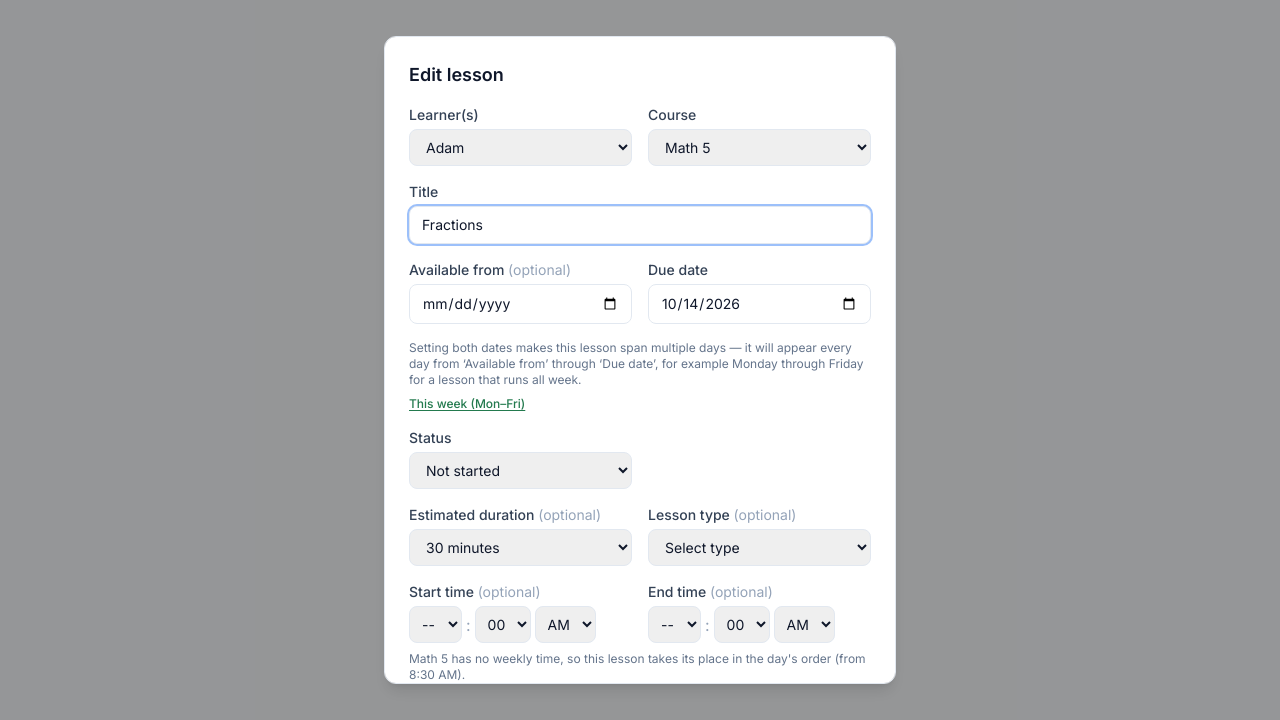
it: EditLessonModal — why this time › explains a course with no weekly time, and hides the note once the lesson has its own time
Expected: the field labelled "Title" is shown, [409,206,871,244]
Expected: the text "Math 5 has no weekly time" is shown, [409,651,866,682]
Select "1" in the dropdown named "start time hour" at point(436, 624), box [409,606,462,643]
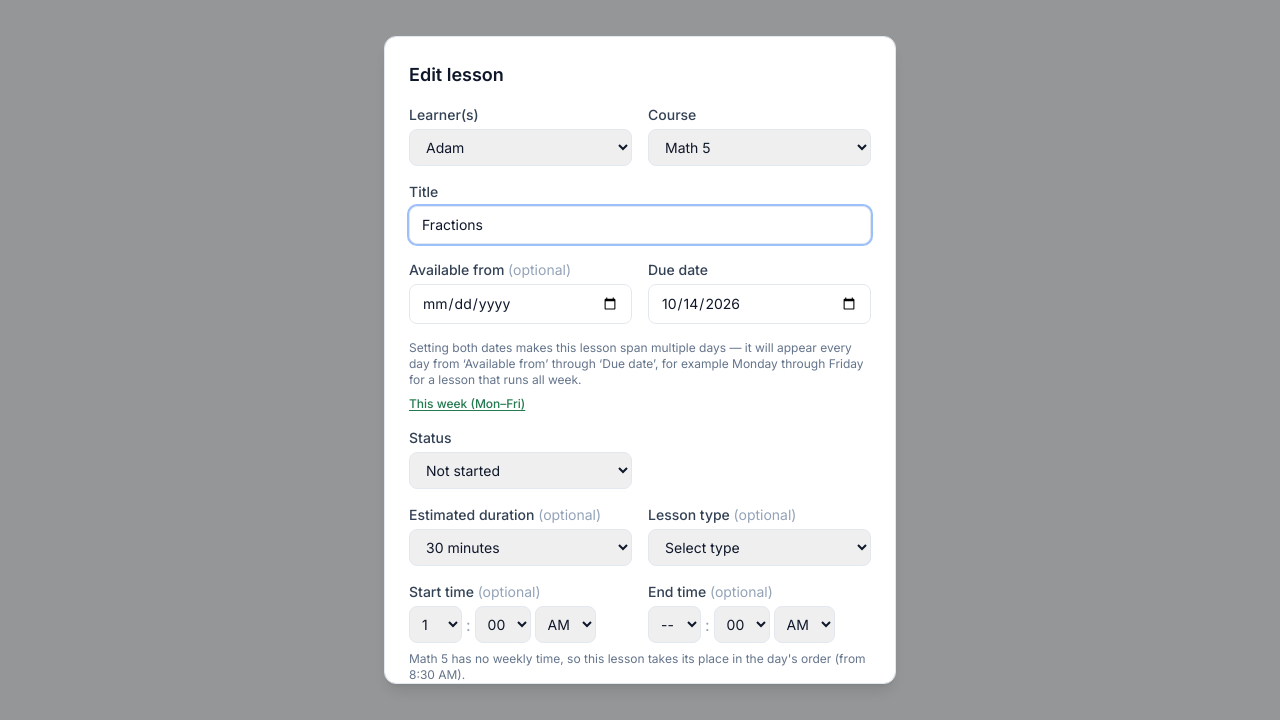
Select "2" in the dropdown named "end time hour" at point(674, 624), box [648,606,701,643]
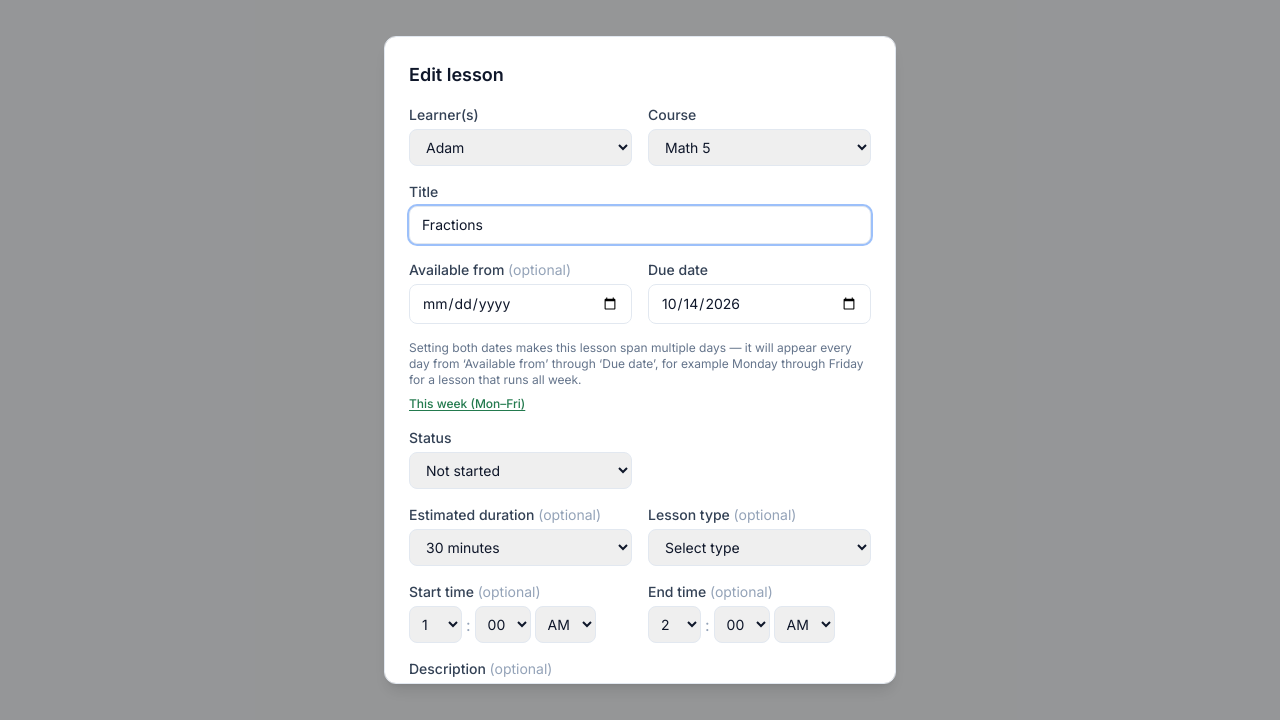
Now the text "has no weekly time" is gone
